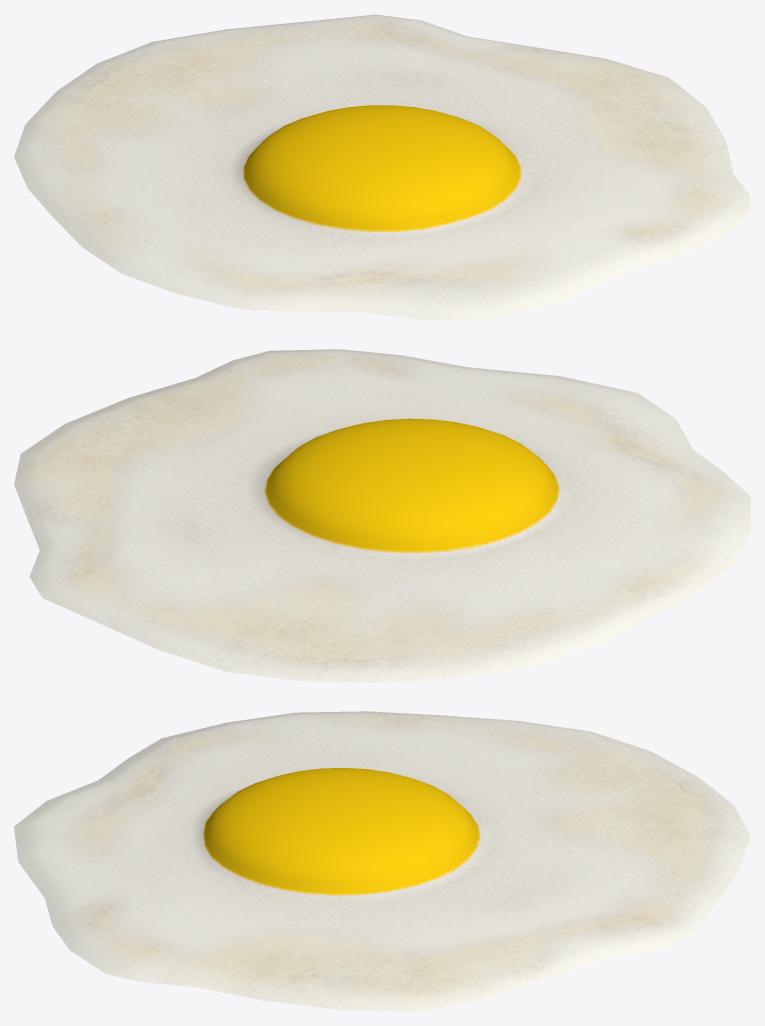
File: Egg_Cracked_7.obj
The picture shows the model from 3 angles, top to bottom: view 1: azimuth 30°, elevation 25°; view 2: azimuth 150°, elevation 25°; view 3: azimuth 270°, elevation 25°; orthographic projection. The views are drawn at different scales.
Visible parts, largest first — view 1: fried_egg_7; view 2: fried_egg_7; view 3: fried_egg_7.
Part boxes in pixels (<box>): fried_egg_7: <box>14,14,750,320</box>; fried_egg_7: <box>14,349,750,682</box>; fried_egg_7: <box>14,711,750,1011</box>.
Bounding box in the file's own units: 0.1314 × 0.0107 × 0.1363.
